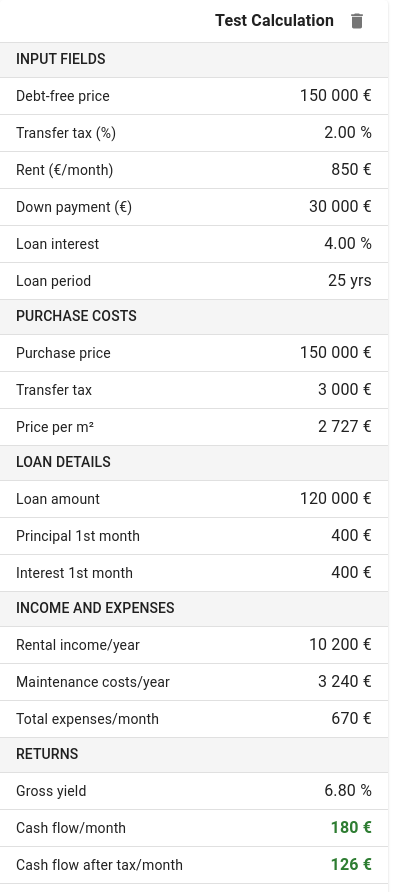
Test: InvestmentComparisonTable › input field display › shows input field only after clicking on value
Click on the first text value (input field)
Click the text "150 000 €" next to "Debt-free price": click(336, 96) [300,86,372,105]
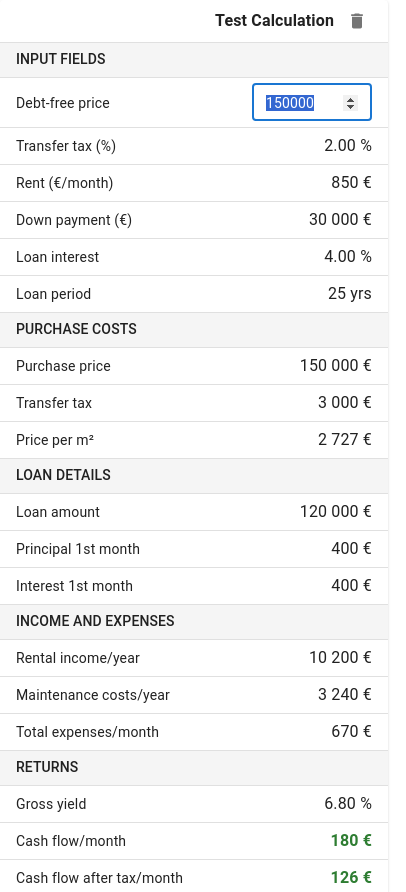
Expected: the number field showing "150000" is shown, [252,84,372,121]
